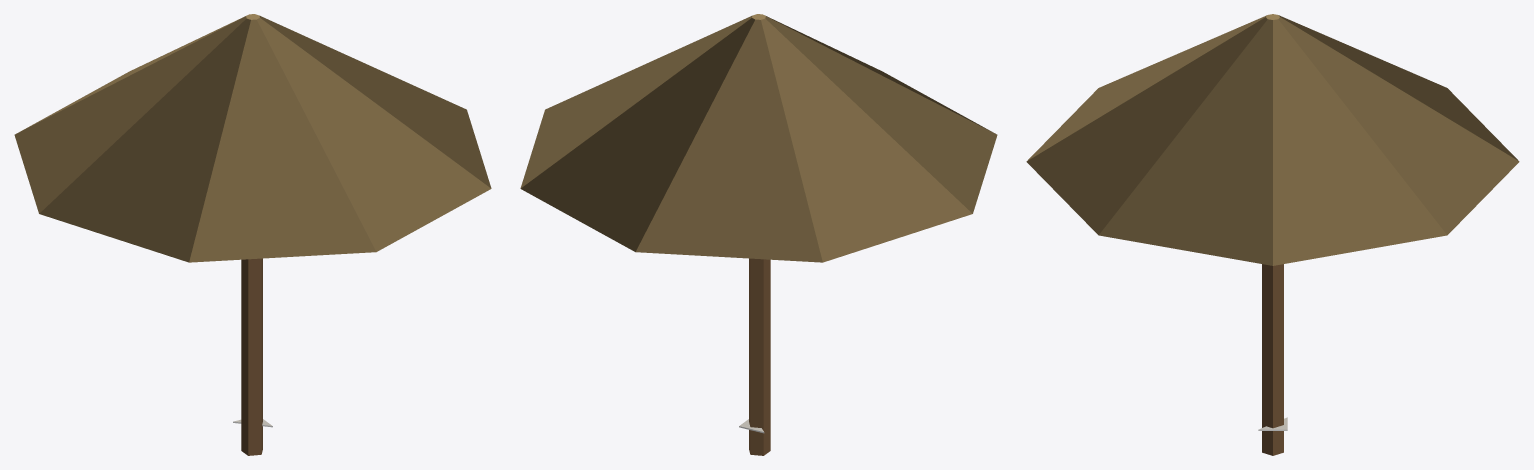
Rendered from palapa_m23_m10.glb.
3 renders of one model, left to right at view 1: azimuth 30°, elevation 25°; view 2: azimuth 150°, elevation 25°; view 3: azimuth 270°, elevation 25°, orthographic.
Parts seen in each view (by area): view 1: palapa_m23_m10_lod0; view 2: palapa_m23_m10_lod0; view 3: palapa_m23_m10_lod0.
Part boxes in pixels (<box>): palapa_m23_m10_lod0: <box>14,14,491,455</box>; palapa_m23_m10_lod0: <box>520,14,997,455</box>; palapa_m23_m10_lod0: <box>1026,14,1519,455</box>.
Size of what is drawn, in the model's own units: 3.4 by 3.3 by 3.4.
